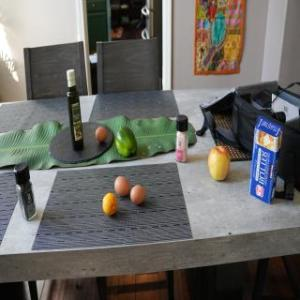bell_pepper: (116, 122, 138, 158)
egg: (113, 174, 129, 196), (93, 126, 107, 146), (132, 184, 144, 203)
